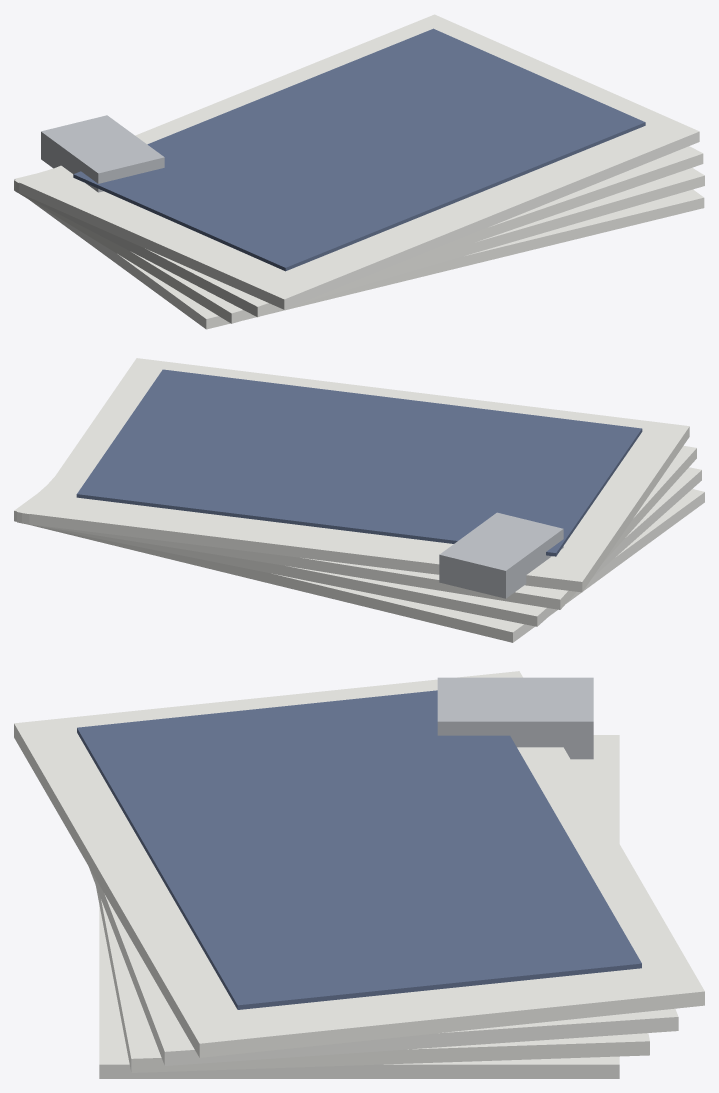
Rendered from crash_photos.glb.
3 renders of one model, top to bottom at view 1: azimuth 30°, elevation 25°; view 2: azimuth 150°, elevation 25°; view 3: azimuth 270°, elevation 25°, orthographic. The views are drawn at different scales.
Parts seen in each view (by area): view 1: picture_photo_crash, photos_photo_white (×4), clip_photo_clip; view 2: picture_photo_crash, photos_photo_white (×4), clip_photo_clip; view 3: picture_photo_crash, photos_photo_white (×4), clip_photo_clip.
Part boxes in pixels (x1,y1,x2,y2): picture_photo_crash: [73, 28, 645, 271]; photos_photo_white (×4): [14, 14, 704, 329]; clip_photo_clip: [41, 115, 164, 192]; picture_photo_crash: [76, 369, 642, 556]; photos_photo_white (×4): [14, 358, 704, 642]; clip_photo_clip: [439, 512, 563, 598]; picture_photo_crash: [77, 690, 641, 1009]; photos_photo_white (×4): [14, 671, 704, 1078]; clip_photo_clip: [437, 677, 593, 759].
Bounding box in the file's own units: 0.1695 × 0.0175 × 0.1328.
